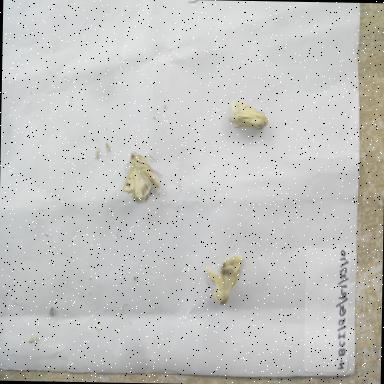abw: (118, 147, 170, 210), (201, 250, 248, 312), (226, 94, 272, 136)
